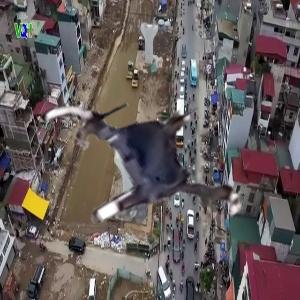drone: (39, 56, 252, 269)
